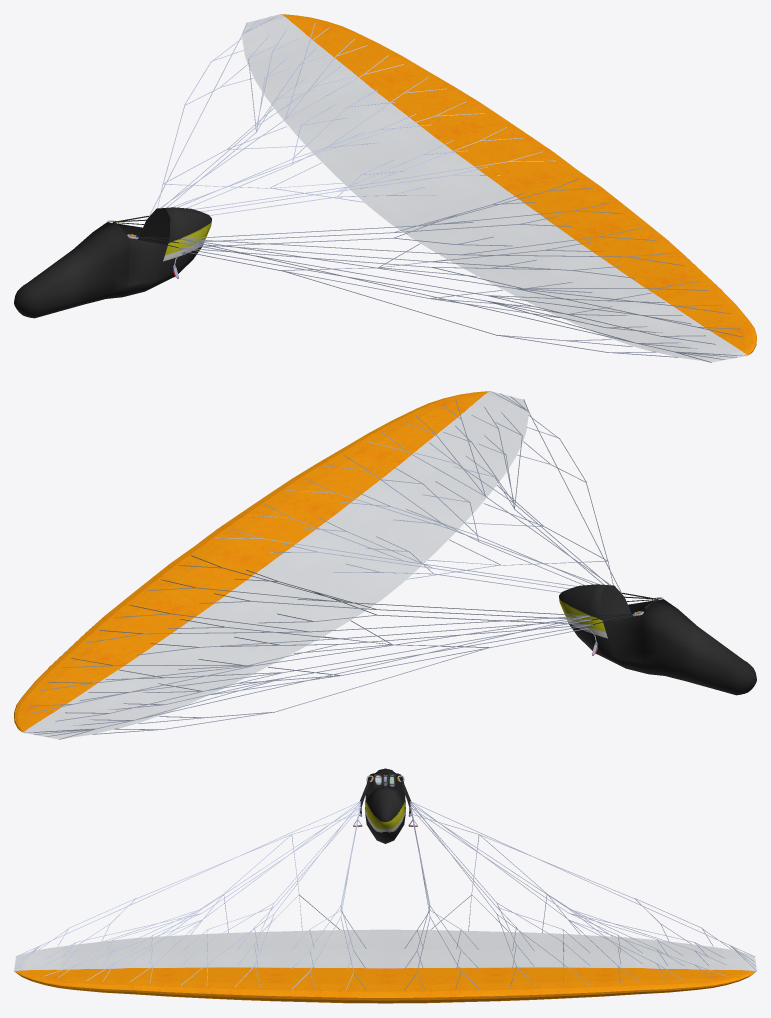
The model's file is paraglider-yellow-launch-cbj_LOD00.gltf.
The picture shows the model from 3 angles, top to bottom: view 1: azimuth 30°, elevation 25°; view 2: azimuth 150°, elevation 25°; view 3: azimuth 270°, elevation 25°; orthographic projection. The views are drawn at different scales.
Visible parts, largest first — view 1: wing; view 2: wing; view 3: wing.
Part boxes in pixels (box(x1,y1,x2,y2)): wing: box(14, 14, 756, 362); wing: box(14, 391, 756, 739); wing: box(14, 768, 756, 1003).
Size of the model in its own units: 7.72 by 1.08 by 11.07.
